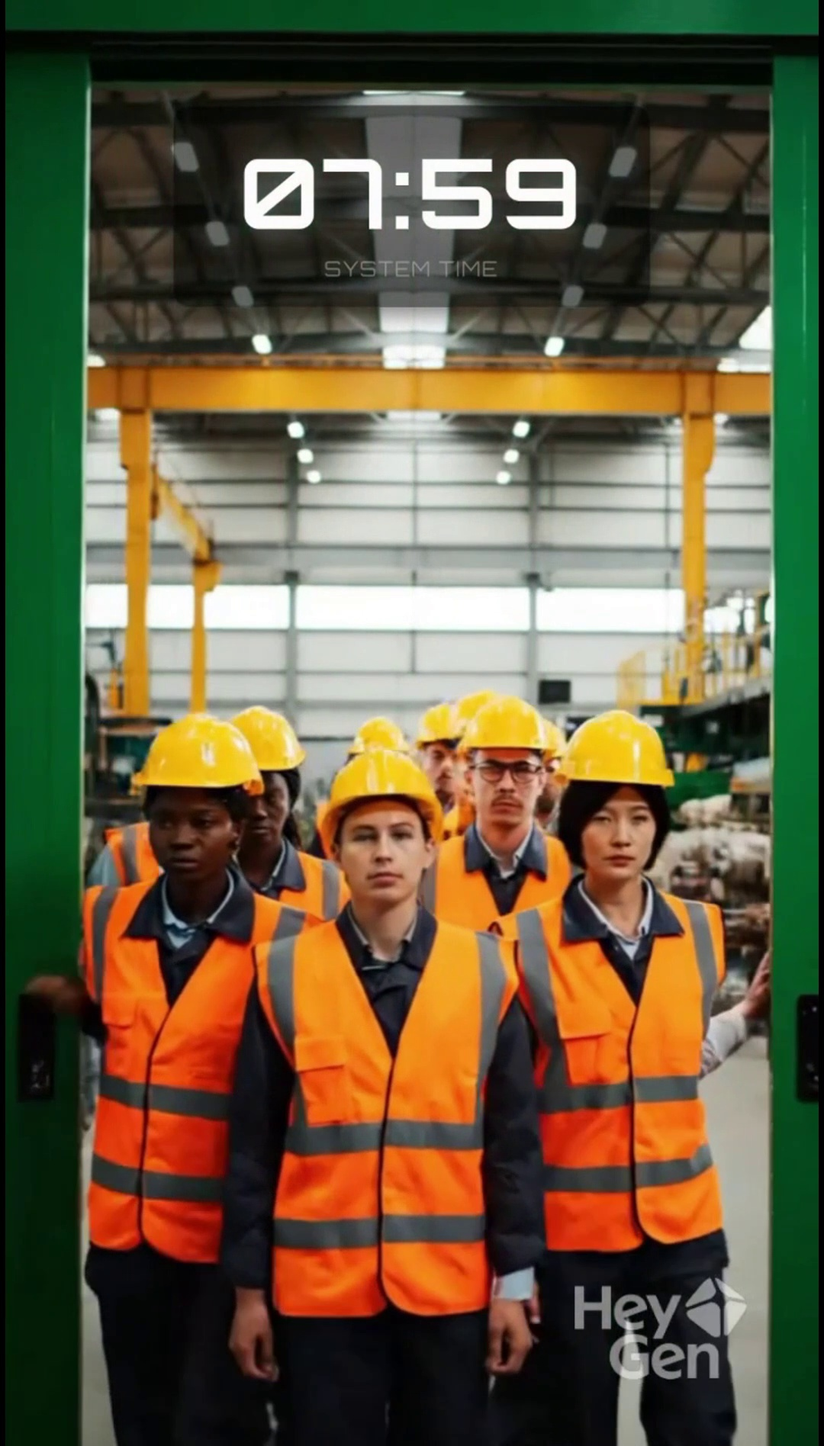Amelie: (140, 775, 242, 890)
Ibtihel: (326, 775, 444, 906)
Insaf: (577, 726, 685, 897)
Mohamed: (464, 714, 551, 858)
porte_verte: (2, 331, 820, 652)
temp: (563, 699, 741, 1446), (114, 704, 255, 1446), (321, 739, 466, 1446), (193, 100, 678, 300), (104, 40, 199, 97)
